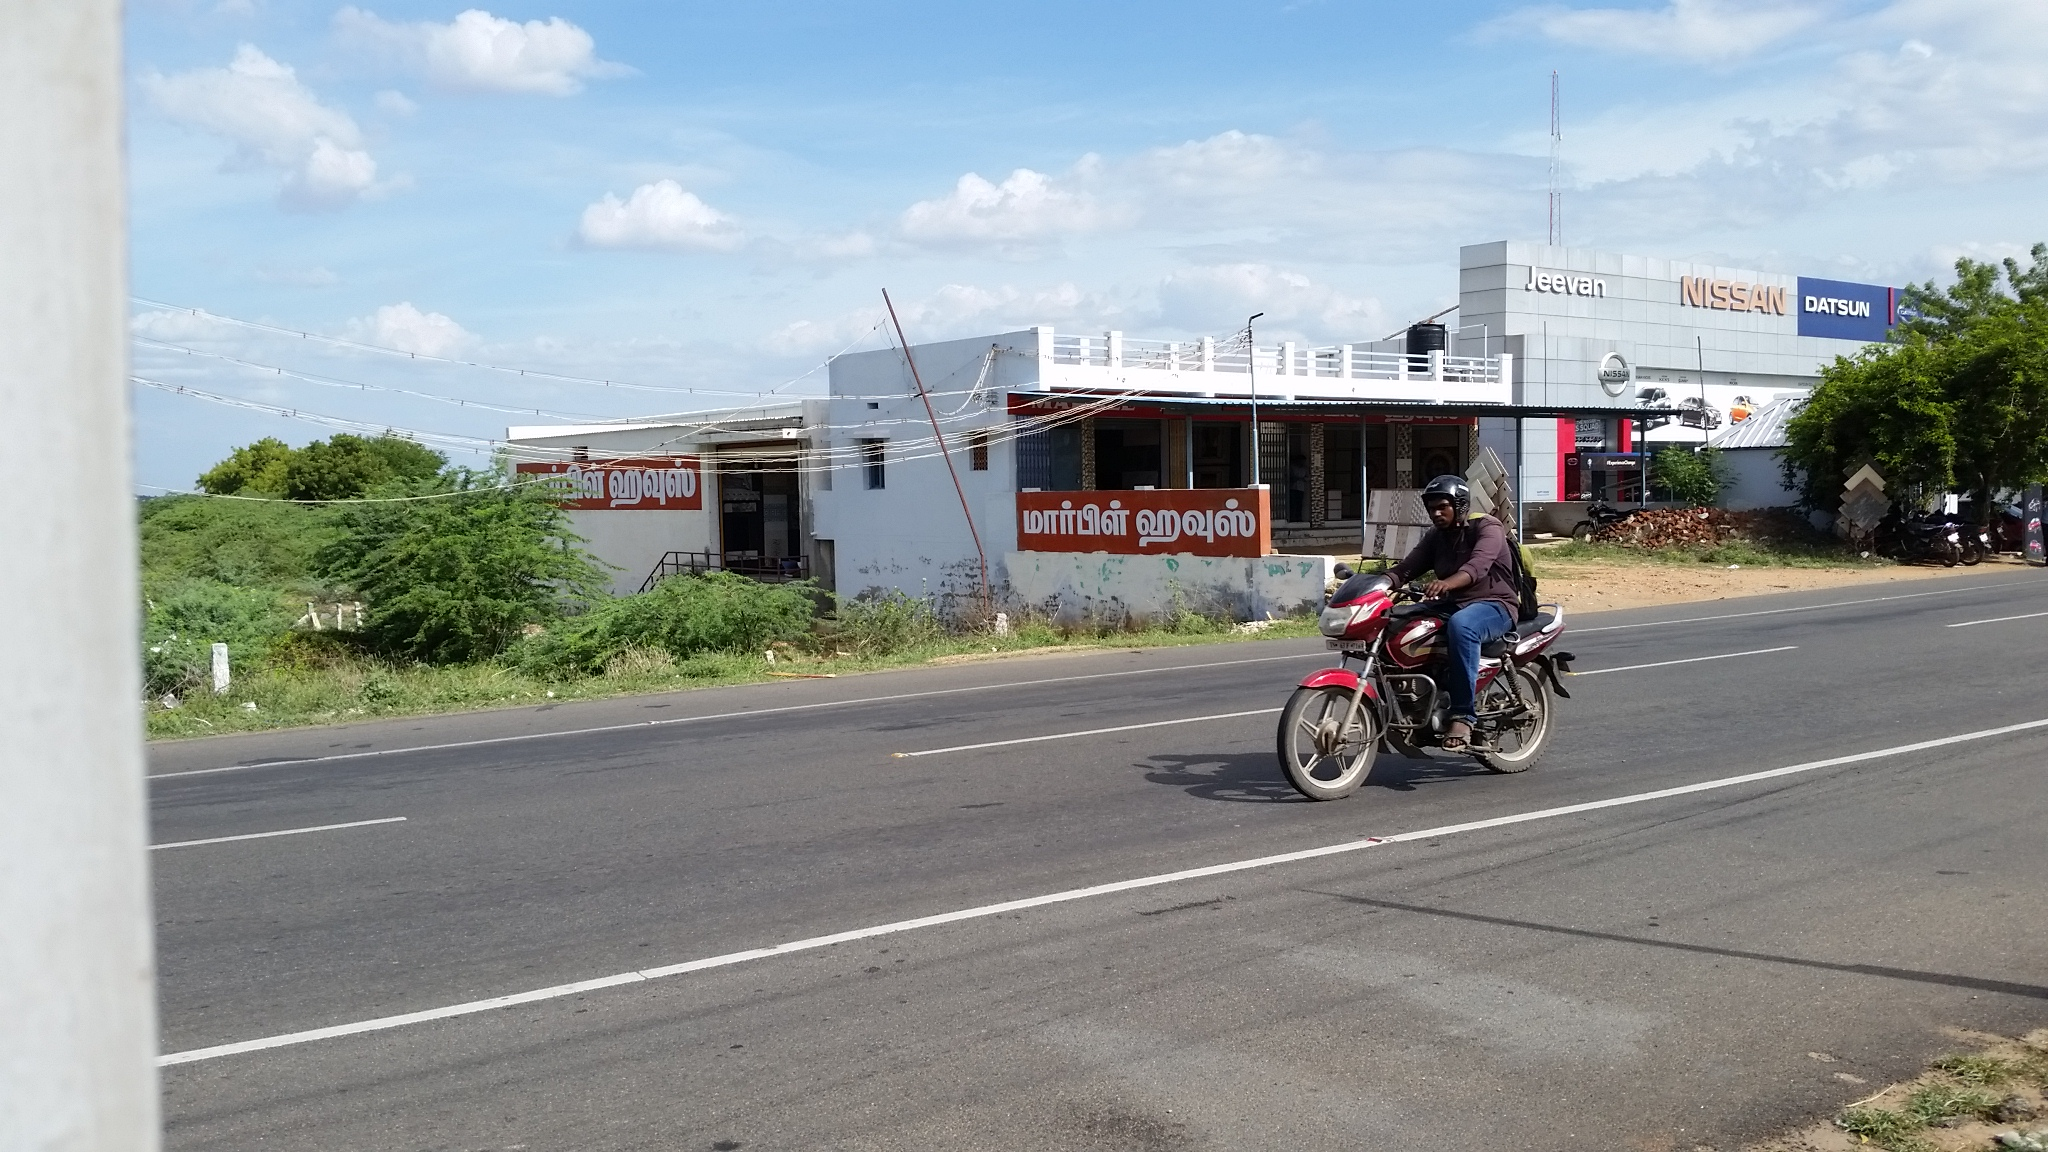biker: (1261, 462, 1591, 823)
helmet: (1402, 470, 1491, 535)
